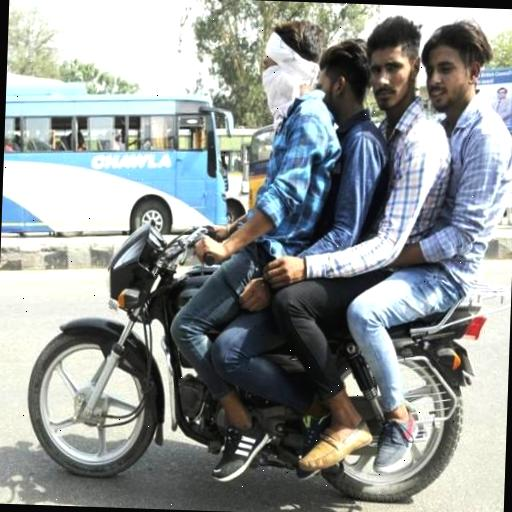no helmet: (228, 16, 336, 180)
triple riding: (142, 8, 512, 307)
